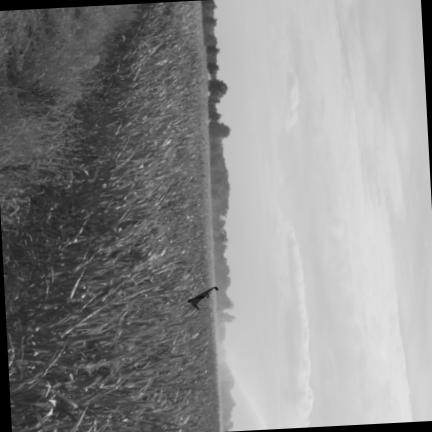Shahed: (187, 287, 217, 308)
